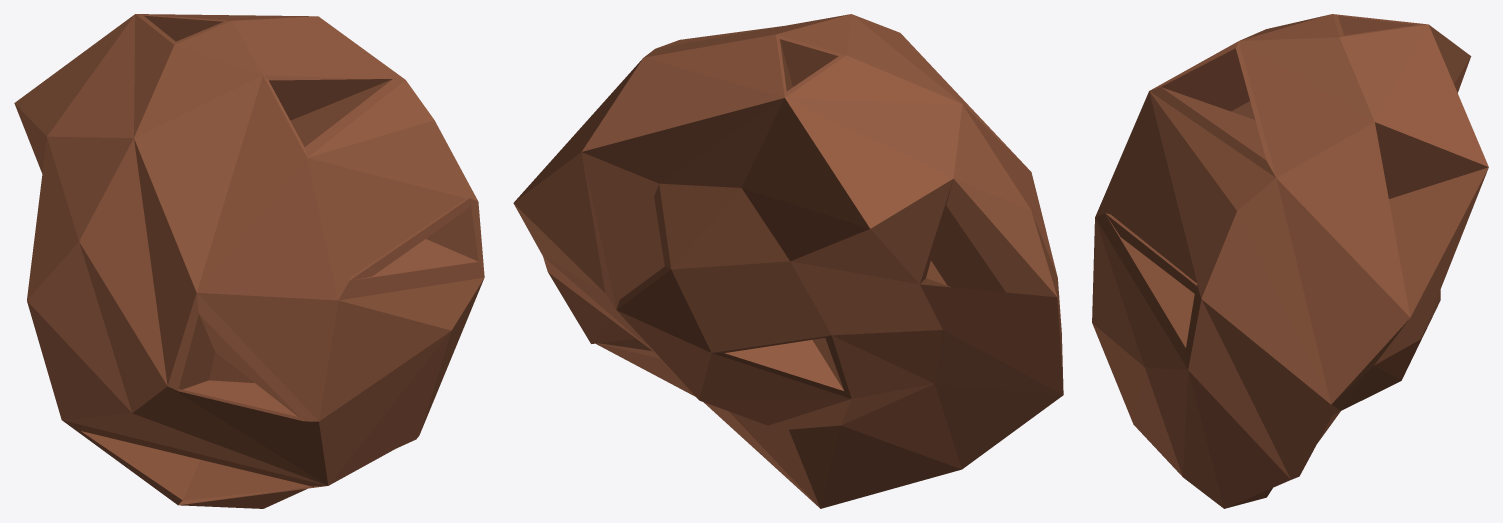
The model's file is Asteroid.002.fbx.
3 renders of one model, left to right at view 1: azimuth 30°, elevation 25°; view 2: azimuth 150°, elevation 25°; view 3: azimuth 270°, elevation 25°, orthographic. The views are drawn at different scales.
Visible parts, largest first — view 1: Asteroid.002; view 2: Asteroid.002; view 3: Asteroid.002.
Part boxes in pixels (box(x1,y1,x2,y2)): Asteroid.002: box(14, 14, 484, 508); Asteroid.002: box(513, 14, 1063, 508); Asteroid.002: box(1092, 14, 1488, 508).
Bounding box in the file's own units: 10.25 × 10.03 × 7.8.
